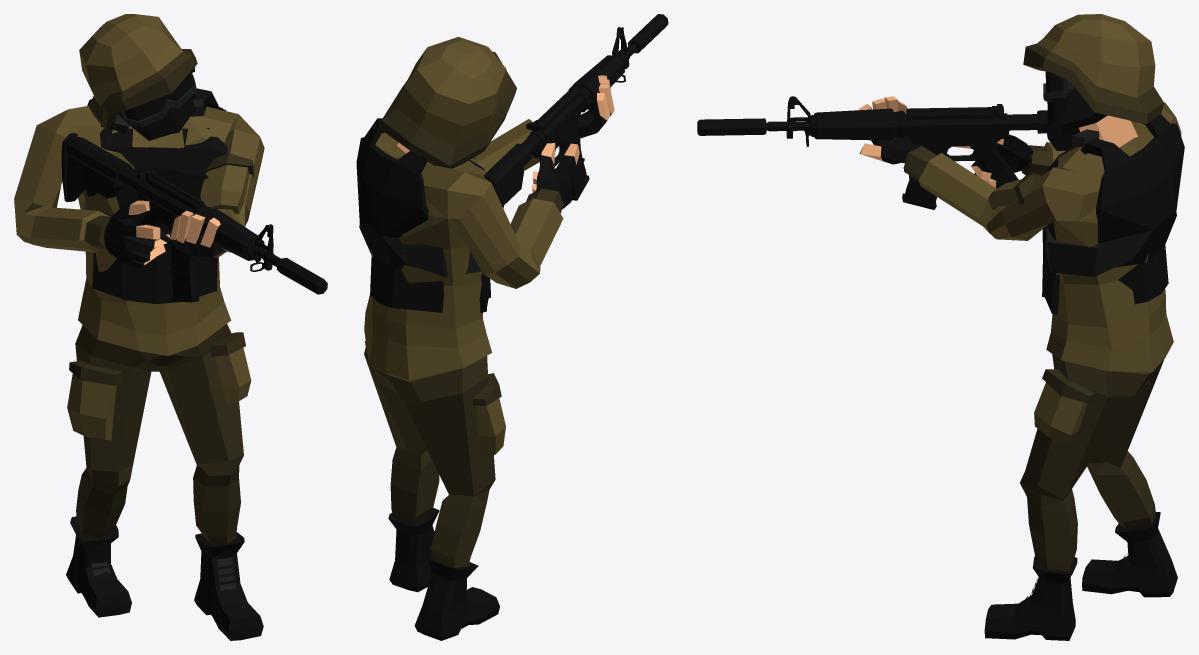
The model's file is shooting1.obj.
The picture shows the model from 3 angles, left to right: view 1: azimuth 30°, elevation 25°; view 2: azimuth 150°, elevation 25°; view 3: azimuth 270°, elevation 25°; orthographic projection. The views are drawn at different scales.
Visible parts, largest first — view 1: Soldat_Cylinder.001, M4_Cube.001, M4_Amo_Cube.007; view 2: Soldat_Cylinder.001, M4_Cube.001, M4_Amo_Cube.007; view 3: Soldat_Cylinder.001, M4_Cube.001, M4_Amo_Cube.007.
Part boxes in pixels (box(x1,y1,x2,y2)): Soldat_Cylinder.001: box(14, 14, 264, 640); M4_Cube.001: box(61, 133, 327, 294); M4_Amo_Cube.007: box(169, 244, 199, 302); Soldat_Cylinder.001: box(356, 37, 614, 640); M4_Cube.001: box(483, 14, 668, 208); M4_Amo_Cube.007: box(570, 139, 589, 200); Soldat_Cylinder.001: box(858, 14, 1184, 640); M4_Cube.001: box(697, 96, 1077, 188); M4_Amo_Cube.007: box(902, 175, 936, 209).
Size of the model in its own units: 11.74 by 31.71 by 23.86.
